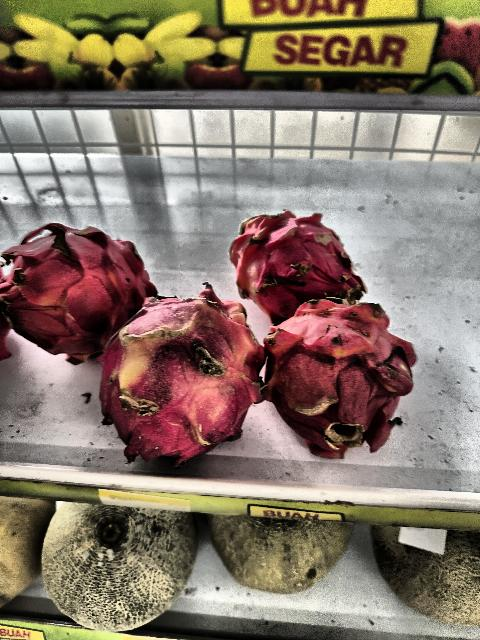buah-naga-belum-matang: (108, 295, 266, 467)
buah-naga-matang: (256, 291, 424, 459), (1, 219, 148, 355), (227, 201, 366, 313)
